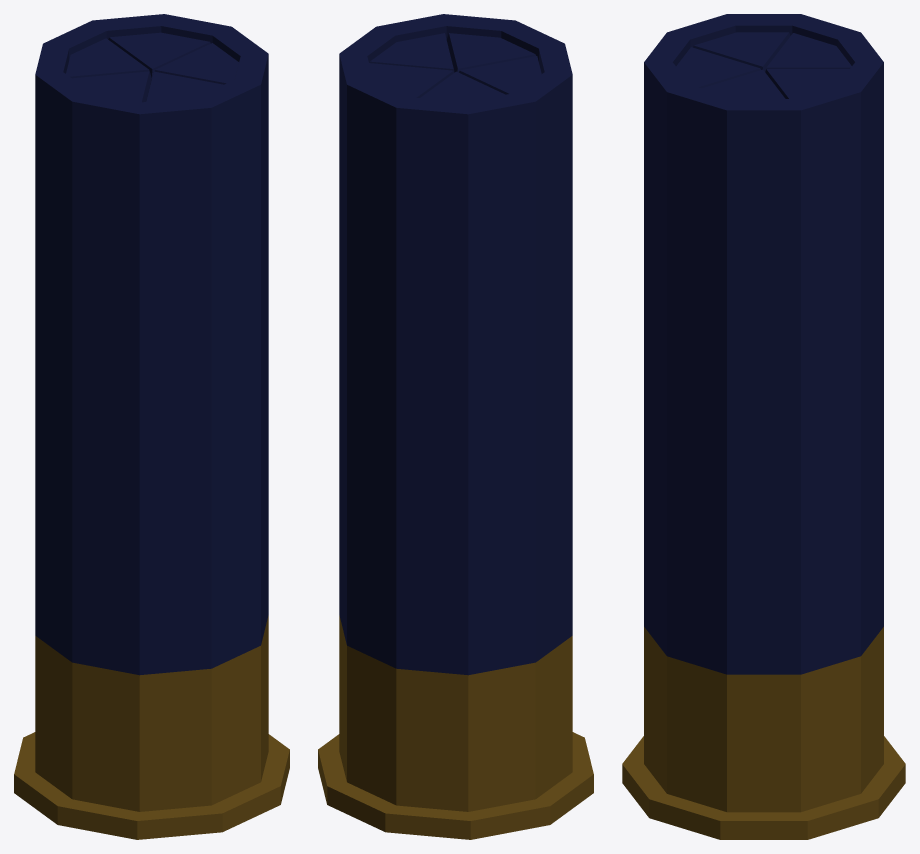
Rendered from Shotgun Slug.glb.
3 renders of one model, left to right at view 1: azimuth 30°, elevation 25°; view 2: azimuth 150°, elevation 25°; view 3: azimuth 270°, elevation 25°, orthographic.
Visible parts, largest first — view 1: Shotgun Slug; view 2: Shotgun Slug; view 3: Shotgun Slug.
Boxes of the visible parts, <box> form: Shotgun Slug: <box>14,14,289,839</box>; Shotgun Slug: <box>318,14,593,839</box>; Shotgun Slug: <box>622,14,905,839</box>.
Size of the model in its own units: 2.84 by 8.36 by 2.98.
